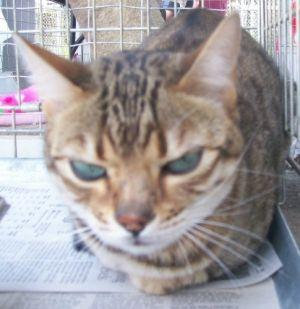bengal: (9, 14, 262, 261)
